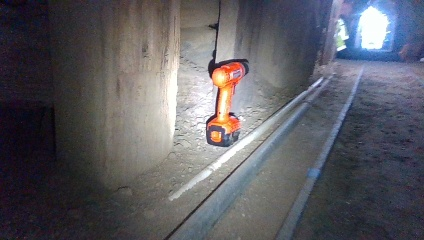drill: (204, 58, 251, 147)
manikin: (335, 11, 356, 62)
